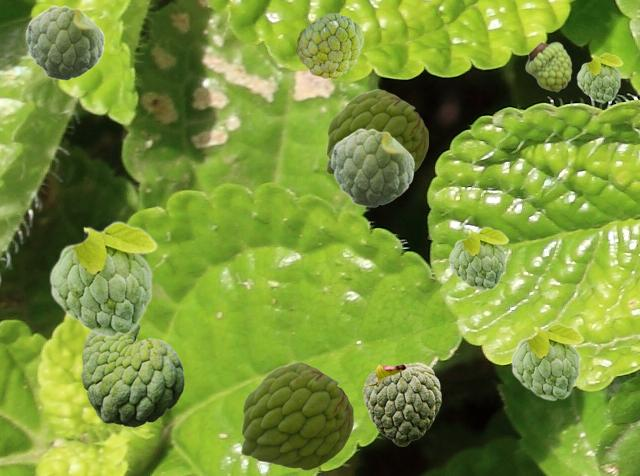atis: (48, 220, 157, 337), (241, 362, 352, 469), (81, 324, 183, 426), (326, 89, 427, 174), (330, 128, 414, 206), (362, 362, 440, 445), (25, 5, 104, 79), (510, 322, 583, 400), (296, 13, 362, 77), (448, 226, 508, 290), (576, 52, 622, 102), (525, 41, 571, 91)
